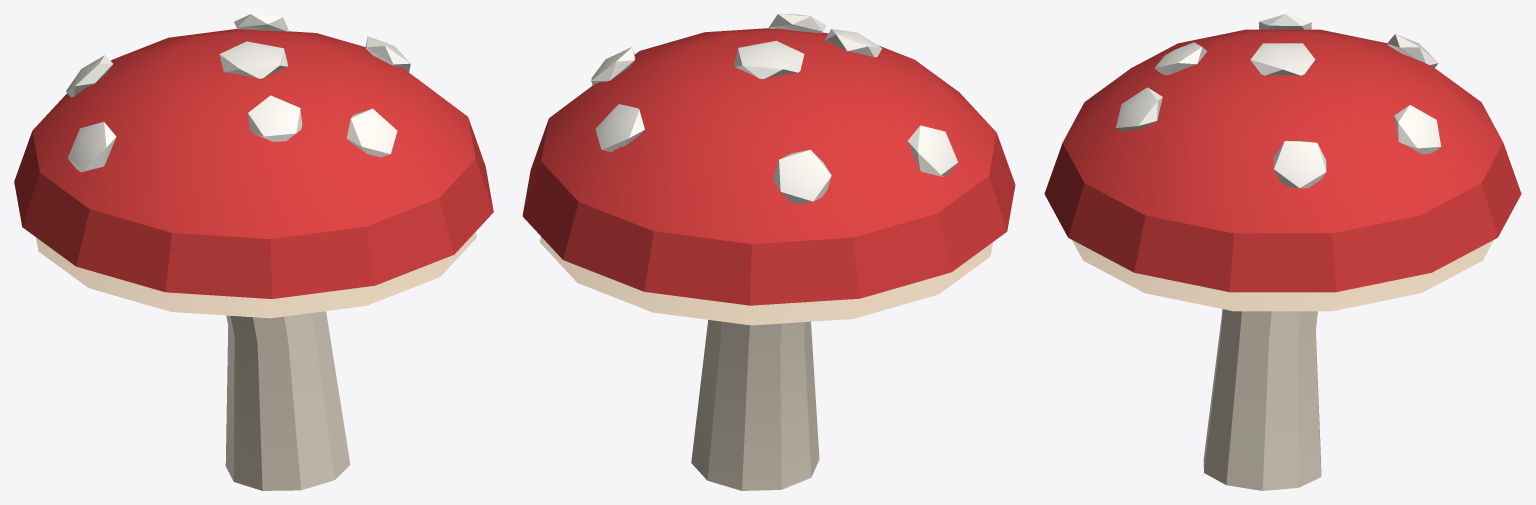
The model's file is Mushroom.fbx.
The picture shows the model from 3 angles, left to right: view 1: azimuth 30°, elevation 25°; view 2: azimuth 150°, elevation 25°; view 3: azimuth 270°, elevation 25°; orthographic projection. The views are drawn at different scales.
Visible parts, largest first — view 1: Mushroom_Body, Mushroom_Stem, Mushroom_Dots, Mushroom_Gills; view 2: Mushroom_Body, Mushroom_Stem, Mushroom_Dots, Mushroom_Gills; view 3: Mushroom_Body, Mushroom_Stem, Mushroom_Dots, Mushroom_Gills.
Part boxes in pixels (box(x1,y1,x2,y2)): Mushroom_Body: box(14, 29, 493, 298); Mushroom_Stem: box(225, 311, 350, 490); Mushroom_Dots: box(66, 14, 410, 172); Mushroom_Gills: box(36, 232, 476, 318); Mushroom_Body: box(522, 28, 1015, 305); Mushroom_Stem: box(691, 320, 819, 490); Mushroom_Dots: box(591, 14, 958, 204); Mushroom_Gills: box(540, 236, 992, 325); Mushroom_Body: box(1044, 29, 1521, 292); Mushroom_Stem: box(1203, 309, 1321, 490); Mushroom_Dots: box(1116, 14, 1441, 188); Mushroom_Gills: box(1072, 240, 1493, 311).
Size of the model in its own units: 331 by 323 by 340.
